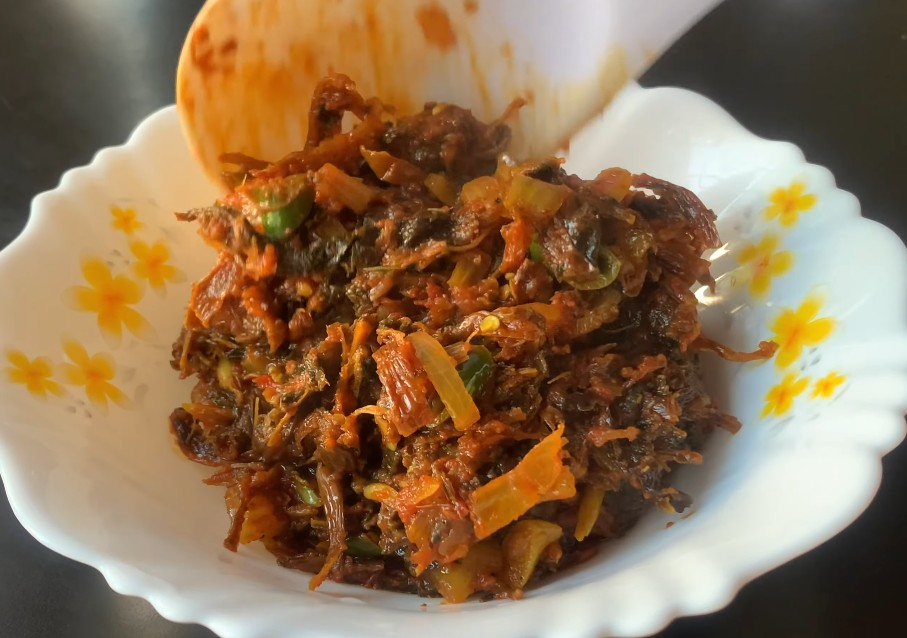gundruk: (177, 106, 720, 577)
